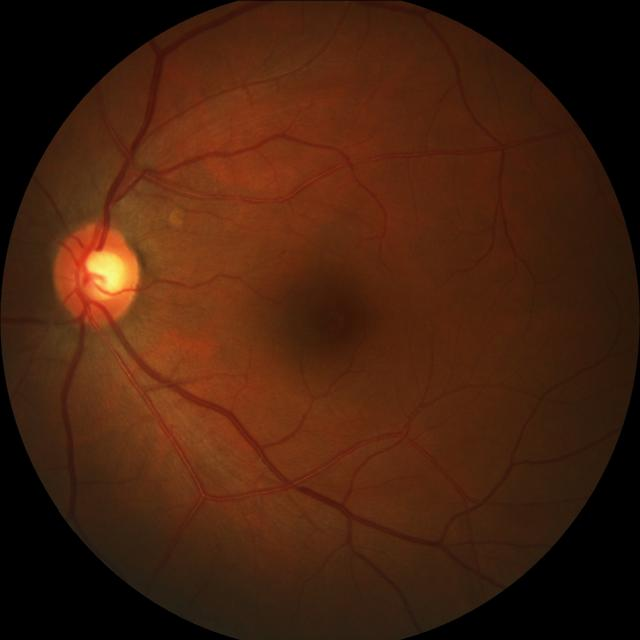OC: (79, 250, 126, 297)
OD: (56, 222, 142, 325)
